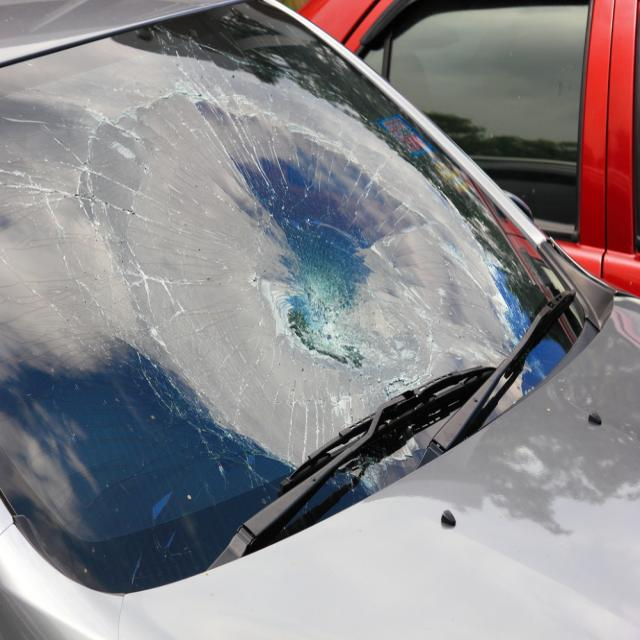glass shatter: (0, 0, 572, 595)
